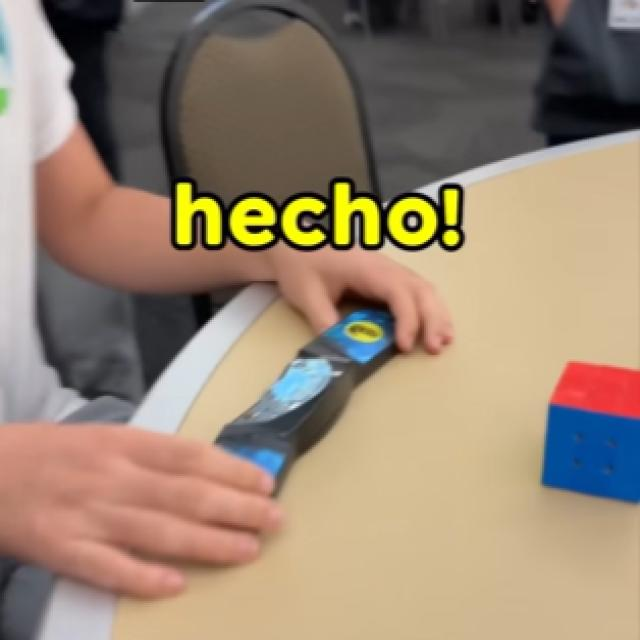Cubo-Resuelto: (544, 365, 638, 501)
